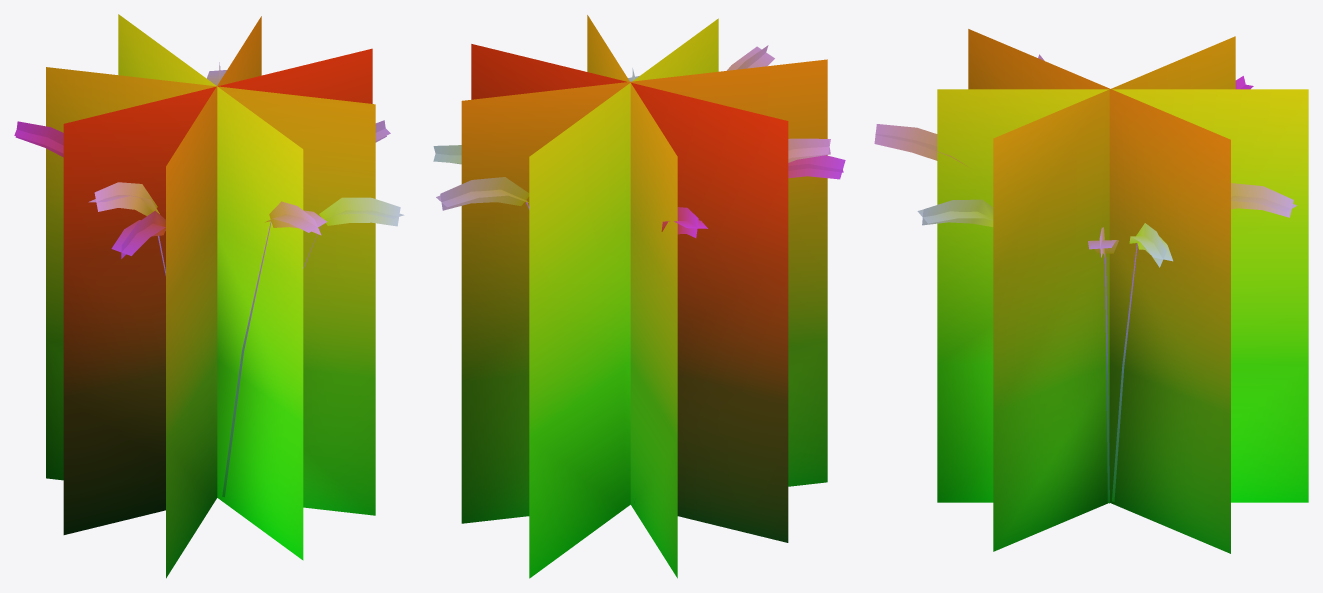
Rendered from Rice_AlmostRipe_C.fbx.
3 views of the same model, side by side, from view 1: azimuth 30°, elevation 25°; view 2: azimuth 150°, elevation 25°; view 3: azimuth 270°, elevation 25° (orthographic). The views are drawn at different scales.
Parts seen in each view (by area): view 1: Rice_AlmostRipe_C_LOD0; view 2: Rice_AlmostRipe_C_LOD0; view 3: Rice_AlmostRipe_C_LOD0.
Boxes of the visible parts, x1,y1,x2,y2 form: Rice_AlmostRipe_C_LOD0: [14, 14, 404, 578]; Rice_AlmostRipe_C_LOD0: [433, 15, 845, 578]; Rice_AlmostRipe_C_LOD0: [874, 29, 1308, 553].
Size of what is drawn, in the model's own units: 0.9598 by 1.15 by 1.1.
